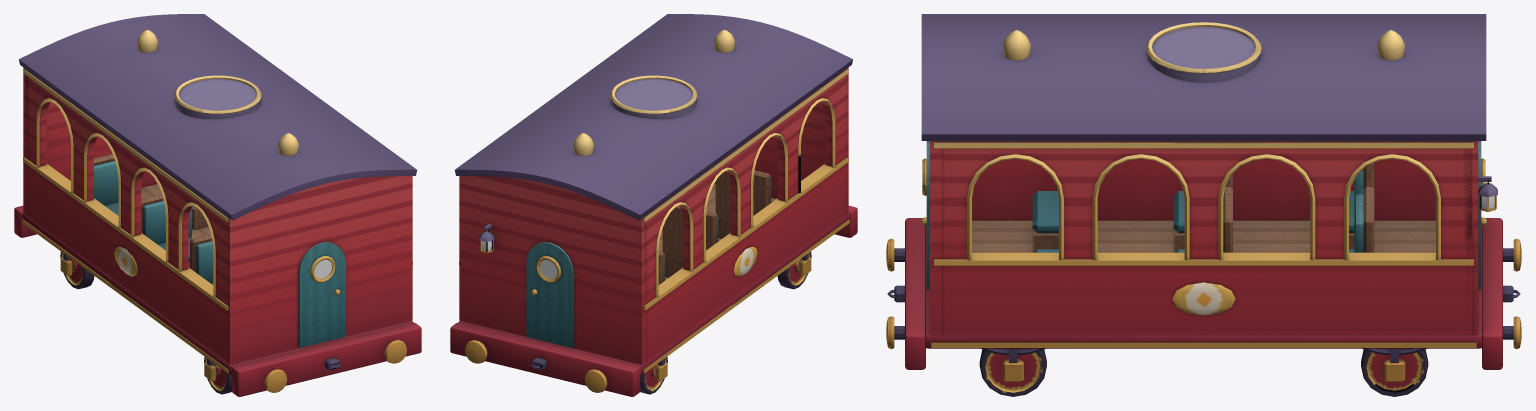
The model's file is train_car_passenger.fbx.
3 views of the same model, side by side, from view 1: azimuth 30°, elevation 25°; view 2: azimuth 150°, elevation 25°; view 3: azimuth 270°, elevation 25° (orthographic). The views are drawn at different scales.
Visible parts, largest first — view 1: train_car_passenger; view 2: train_car_passenger; view 3: train_car_passenger.
Boxes of the visible parts, x1,y1,x2,y2 form: train_car_passenger: (14, 14, 421, 396); train_car_passenger: (450, 14, 857, 396); train_car_passenger: (886, 14, 1521, 396).
Bounding box in the file's own units: 809 × 1000 × 1800.
2 materials, 1 textured.
